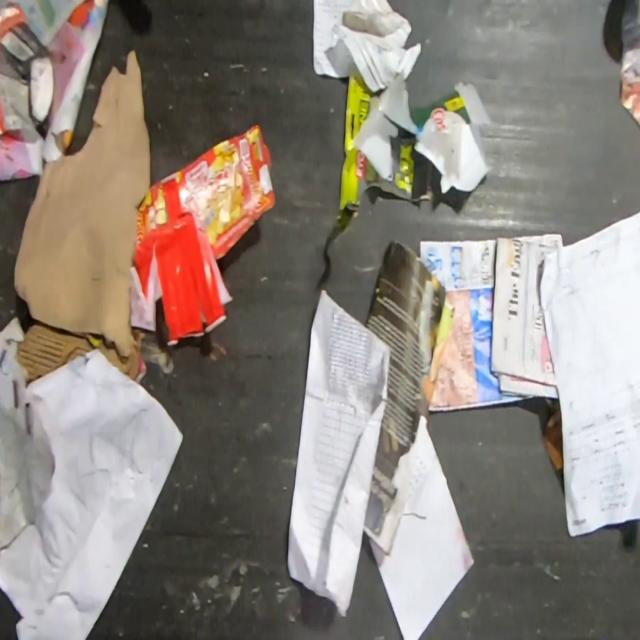cardboard: (12, 48, 153, 384), (338, 67, 493, 212), (136, 122, 277, 260), (542, 400, 563, 473)
rigid_plastic: (128, 210, 234, 347)
